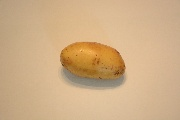potato: (59, 41, 126, 82)
